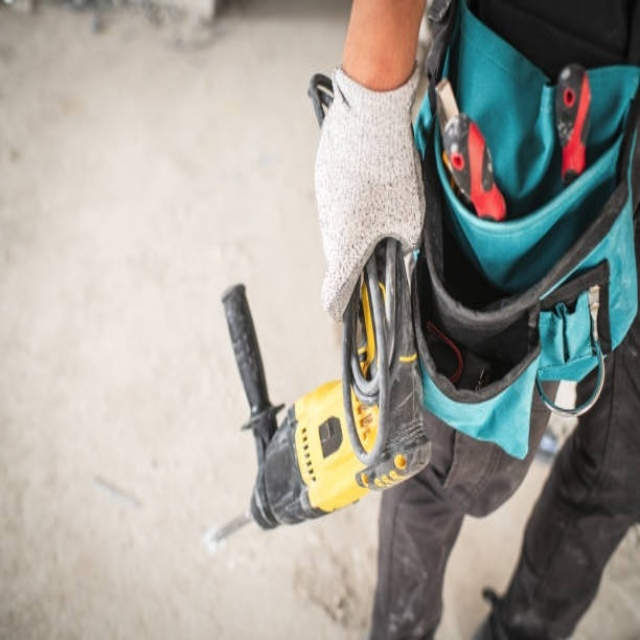Guantes: (312, 58, 428, 322)
